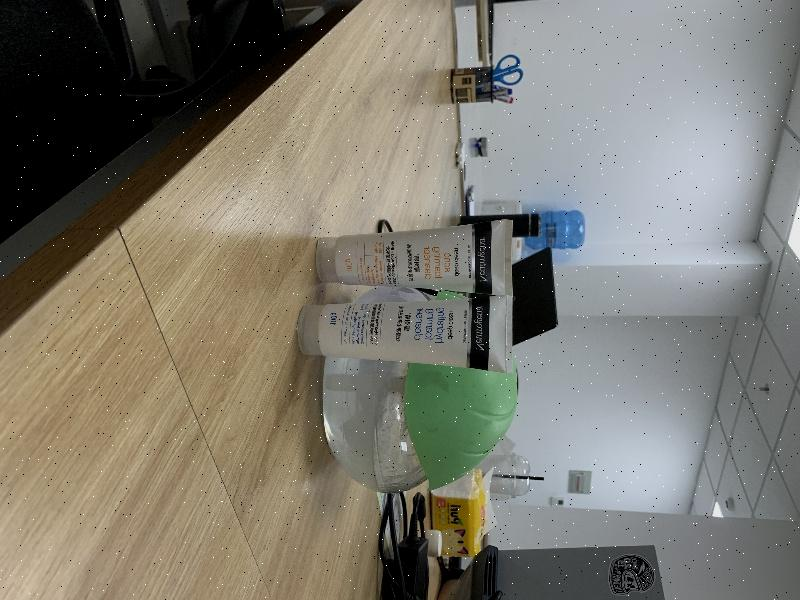AcneFoamingCleanser: (314, 219, 513, 295)
HydratingFoamingCleanser: (297, 295, 513, 374)
